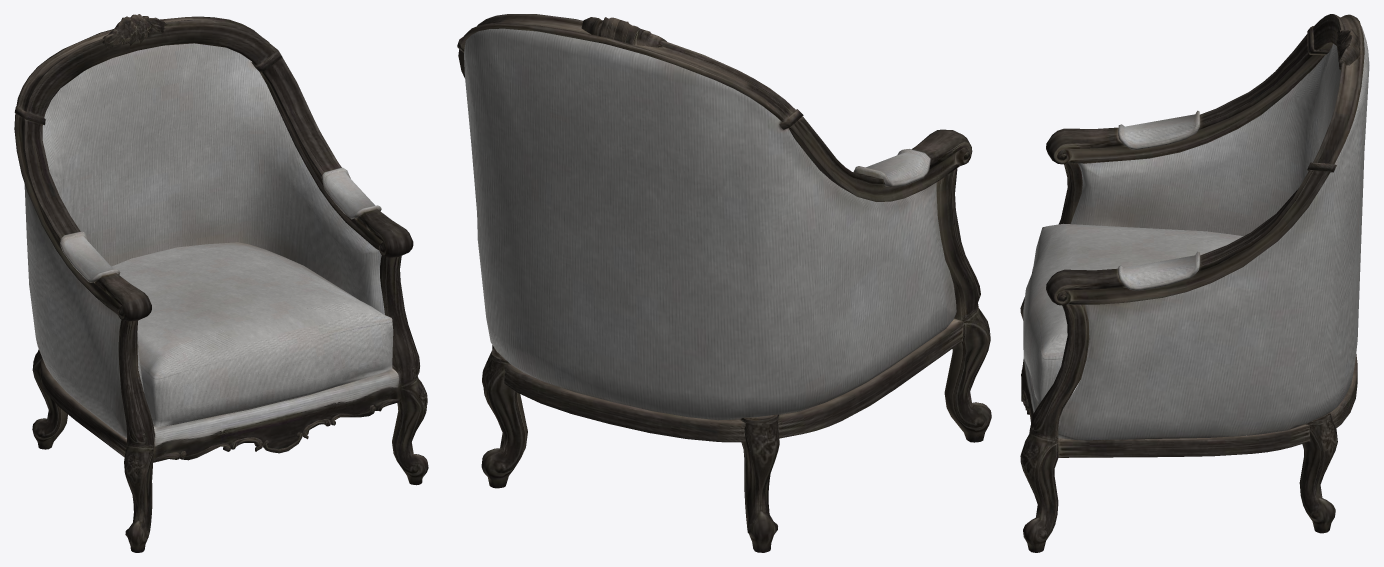
The model's file is ArmChair_01.glb.
3 views of the same model, side by side, from view 1: azimuth 30°, elevation 25°; view 2: azimuth 150°, elevation 25°; view 3: azimuth 270°, elevation 25° (orthographic). The views are drawn at different scales.
Parts seen in each view (by area): view 1: ArmChair_01; view 2: ArmChair_01; view 3: ArmChair_01.
Part boxes in pixels (x1,y1,x2,y2): ArmChair_01: (14, 14, 428, 552); ArmChair_01: (457, 14, 991, 552); ArmChair_01: (1020, 14, 1369, 552).
Size of the model in its own units: 0.8482 by 1.06 by 0.7658.
Materials: 1 (1 with a texture image).
